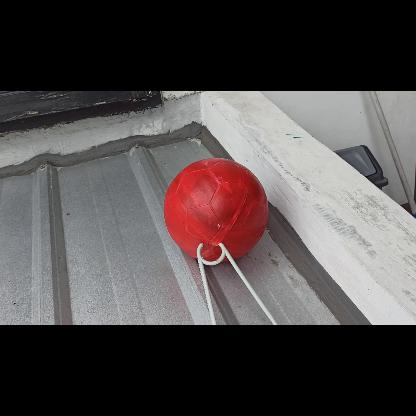red_ball: (162, 156, 268, 262)
